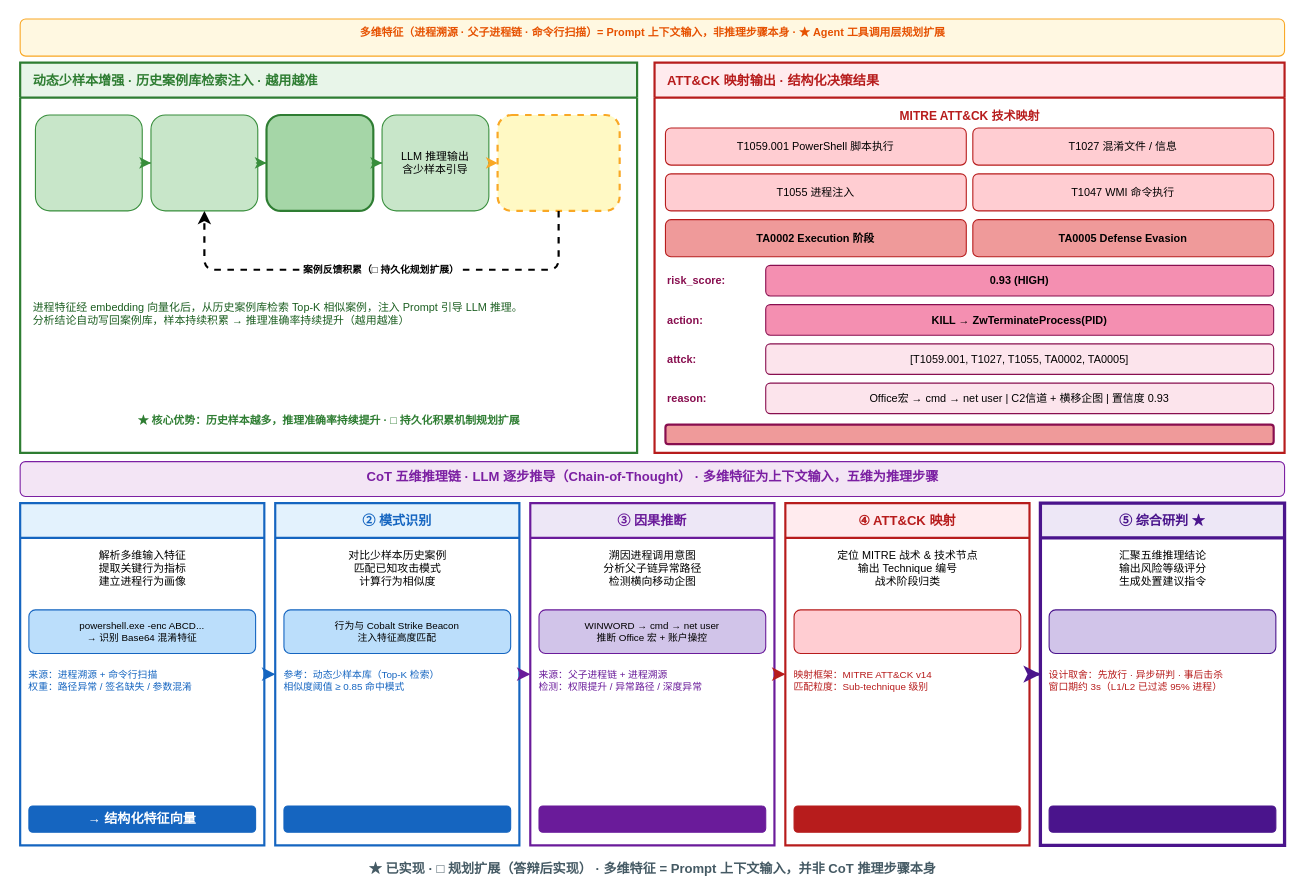
This 1305x896 diagram has some shape labels left out. The shapes that lost their labels are listed below. From the top down, each one's box as (x1, y1, x2, y2) in pixels, then its label:
(34, 114, 142, 211): 进程特征向量化 embedding 检索
(150, 114, 258, 211): 案例库检索 Top-K 相似案例
(265, 113, 374, 211): Few-shot 注入 嵌入 Prompt
(496, 113, 620, 211): 结论写回案例库 □ 持久化积累
(664, 423, 1274, 445): ZwTerminateProcess(PID) → 内核强制终止 [★ 已实现]
(793, 609, 1021, 653): T1059.001 PowerShell TA0002 Execution · TA0005 Evasion
(1048, 609, 1276, 653): risk_score: 0.93 · action: KILL reason: C2信道 + 横移企图确认
(19, 501, 265, 846): ① 特征解构
(283, 805, 511, 832): → 候选攻击模式集合
(538, 805, 766, 832): → 攻击意图置信度
(793, 805, 1021, 832): → Technique 编号列表
(1048, 805, 1276, 832): → 结构化 JSON 决策输出
